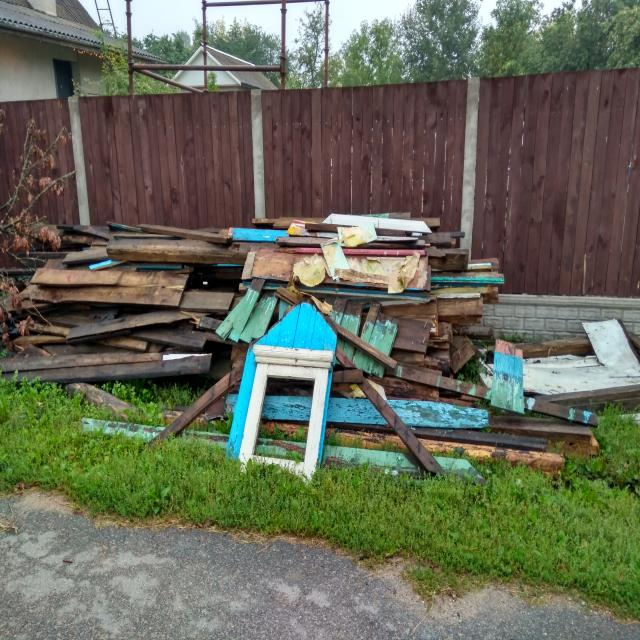entulho: (82, 415, 483, 484), (233, 209, 461, 314), (224, 300, 344, 477), (376, 279, 496, 396), (209, 388, 494, 436), (0, 338, 214, 388), (514, 321, 638, 407), (13, 296, 226, 342), (12, 260, 205, 304), (213, 262, 301, 348), (322, 291, 396, 391), (85, 224, 252, 268), (257, 299, 339, 353), (492, 332, 528, 418)
